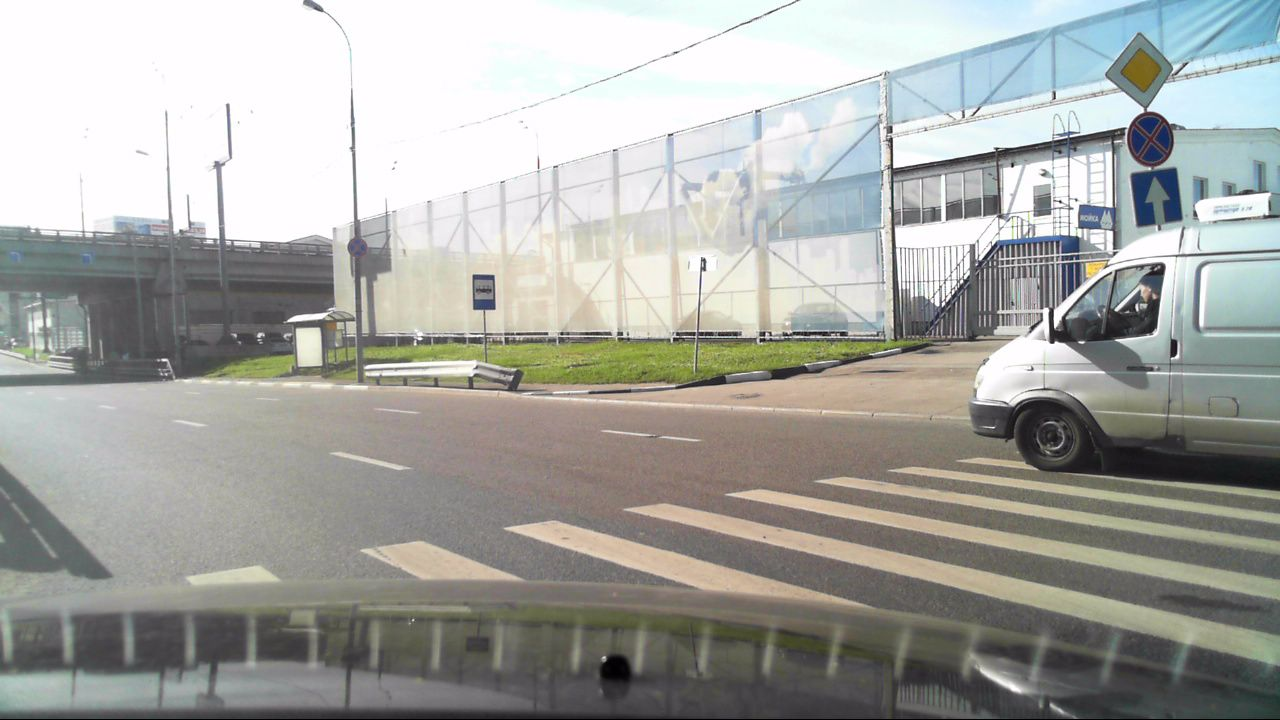No Parking: (1123, 112, 1177, 172)
